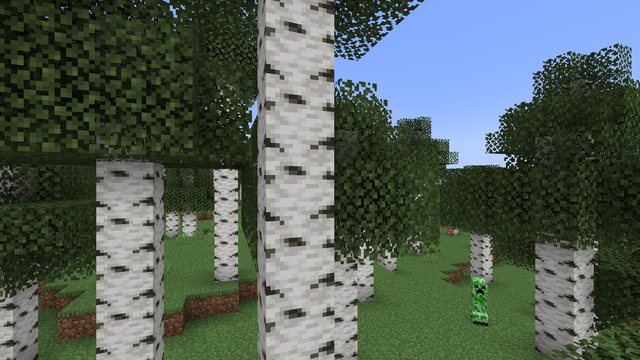creepers: (466, 274, 490, 325)
